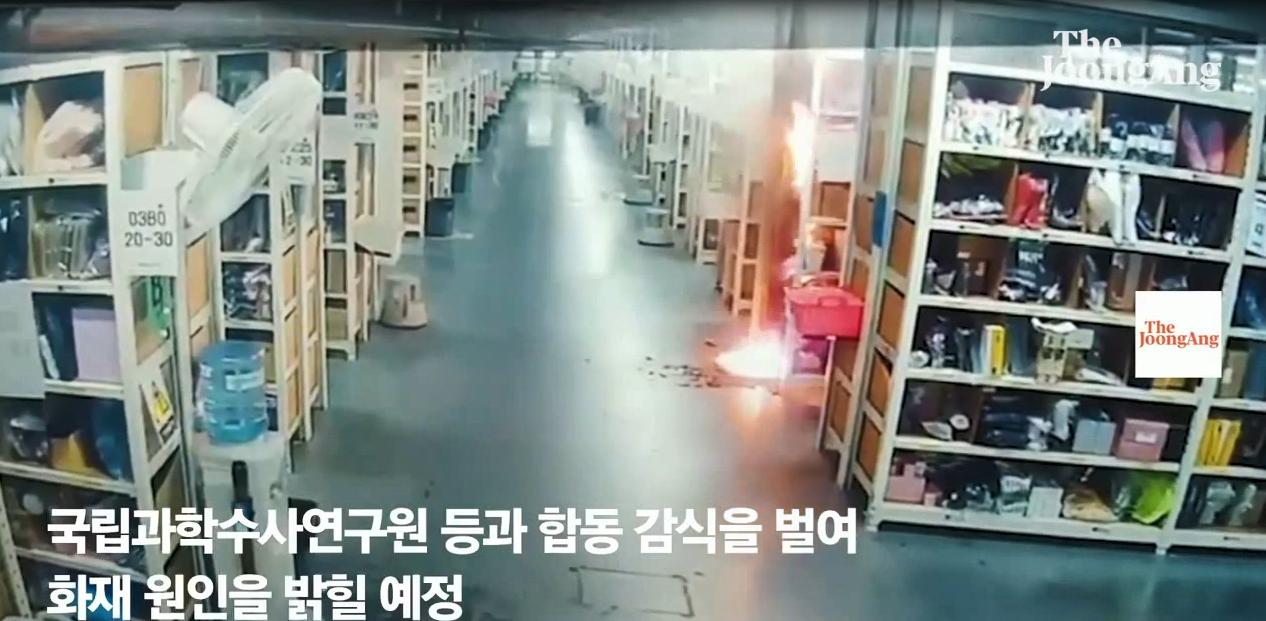fire: (715, 326, 781, 378), (783, 98, 817, 193)
